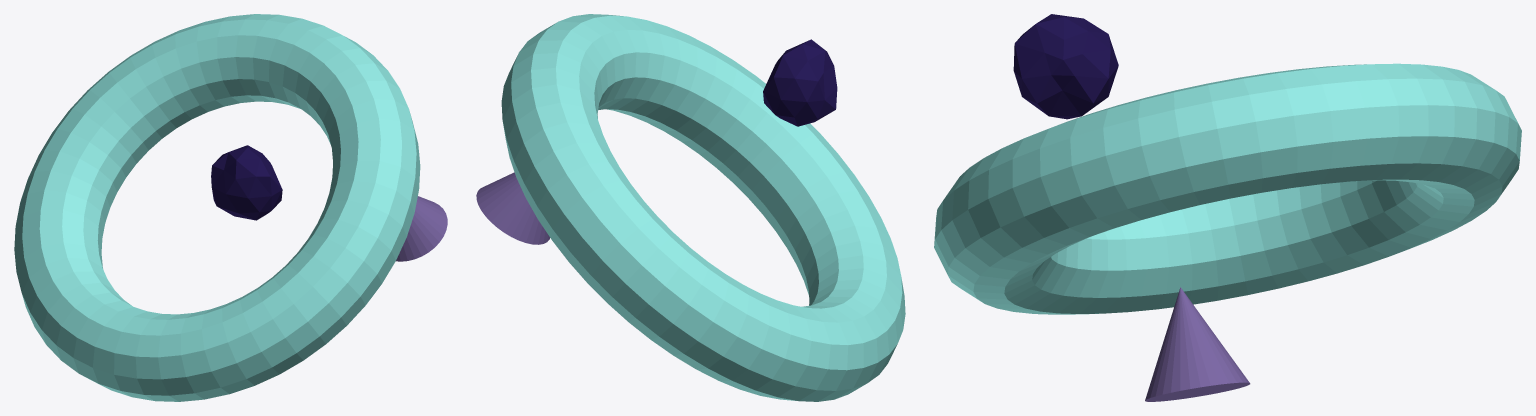
File: littleTest2.gltf
3 renders of one model, left to right at view 1: azimuth 30°, elevation 25°; view 2: azimuth 150°, elevation 25°; view 3: azimuth 270°, elevation 25°, orthographic. The views are drawn at different scales.
Parts seen in each view (by area): view 1: Torus, Icosphere.001, Cone; view 2: Torus, Icosphere.001, Cone; view 3: Torus, Icosphere.001, Cone.
Part boxes in pixels (x1,y1,x2,y2): Torus: (14, 14, 420, 401); Icosphere.001: (211, 145, 282, 220); Cone: (396, 196, 447, 261); Torus: (501, 14, 905, 401); Icosphere.001: (763, 39, 837, 126); Cone: (476, 172, 549, 244); Torus: (934, 63, 1521, 314); Icosphere.001: (1013, 14, 1118, 119); Cone: (1145, 287, 1250, 401).
Size of the model in its own units: 10.98 by 7.78 by 10.98.
